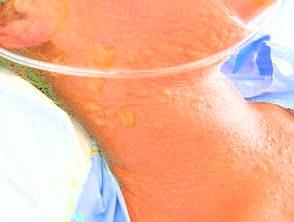SJS-TEN: (71, 20, 257, 133)
